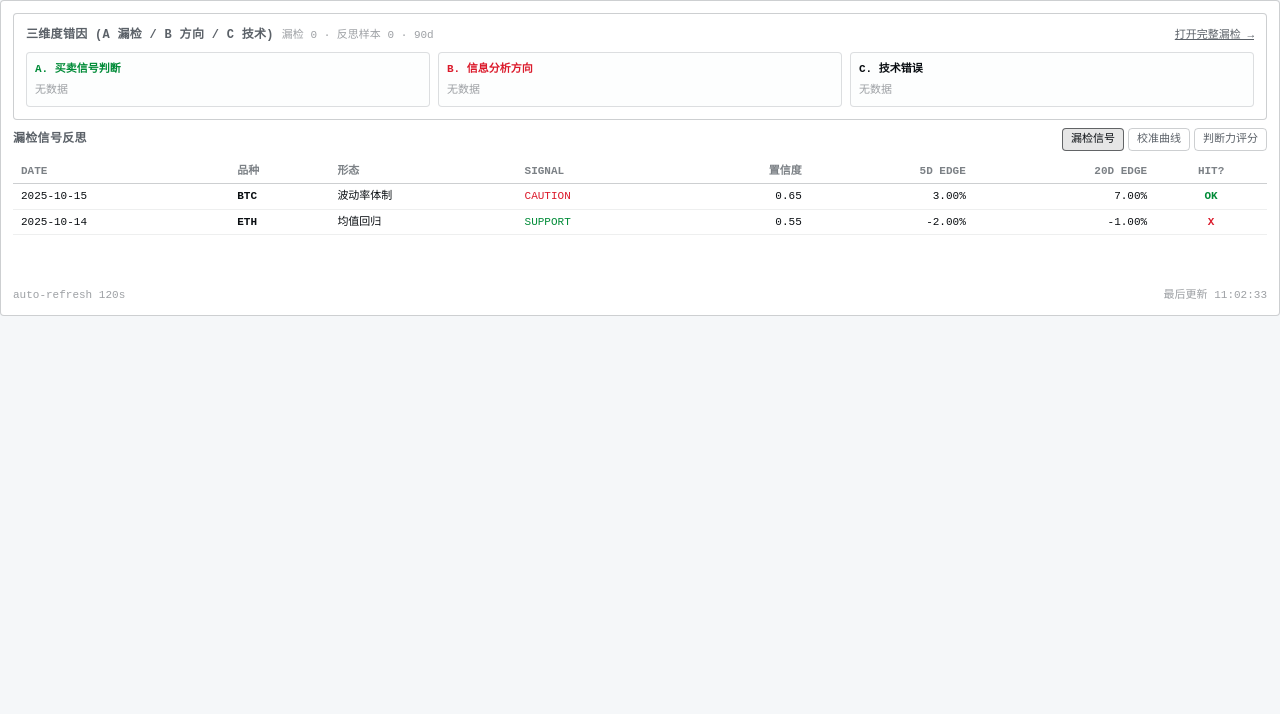
Test: MissedSignalsPanel › renders 12-week trend chart on quality tab
Expected: the text "BTC" is shown, top-left (229, 184), bottom-right (329, 209)
Click the tab "判断力评分" at (1230, 139), box top-left (1194, 128), bottom-right (1267, 150)
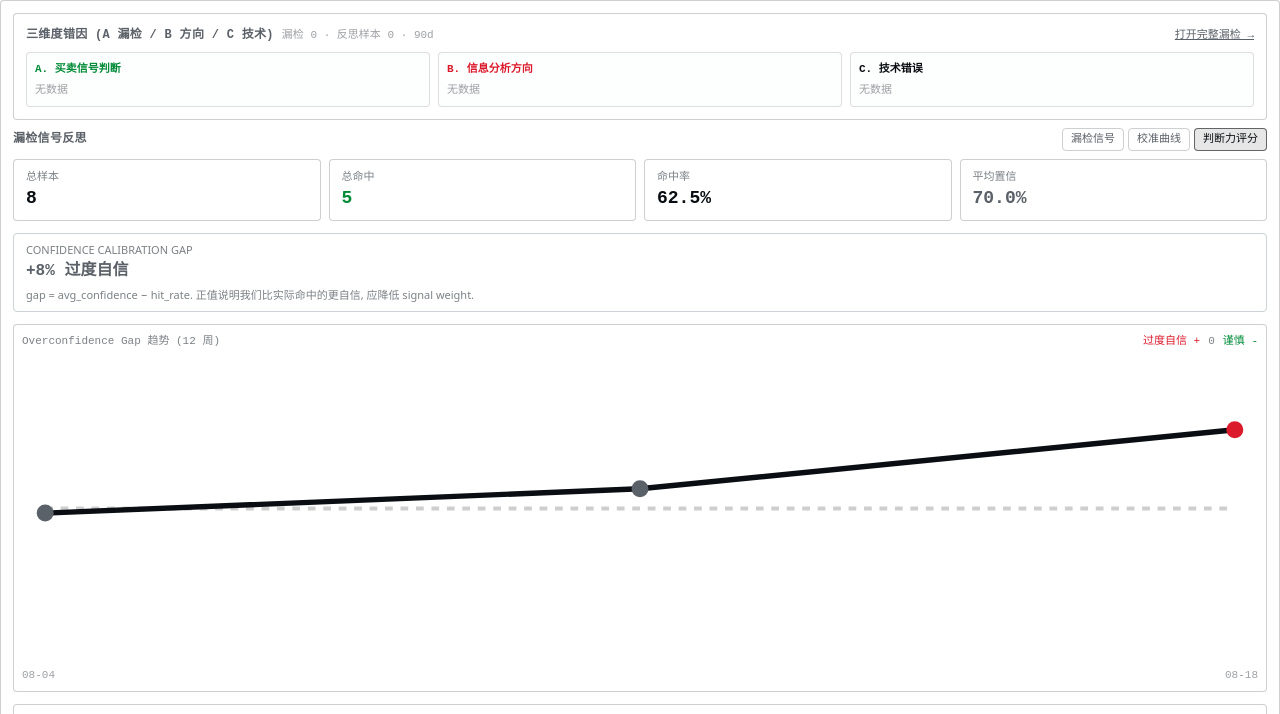
Result: the text "Overconfidence Gap 趋势 (12 周)" is shown at top-left (22, 333), bottom-right (220, 350)
